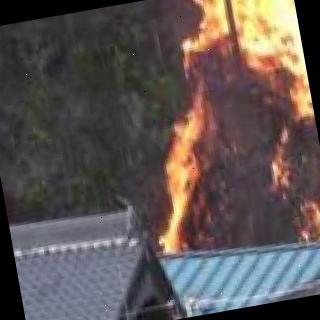fire: (125, 0, 320, 273)
